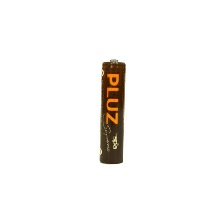battery: (96, 56, 128, 169)
